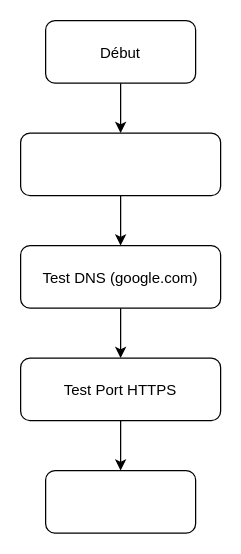
Some shapes in this 241 by 554 pixel diagram are drawn without their labels. The centre of each missing label's shape, as x and y in pixels:
"Fin" belongs at (120,501).
"Test Internet" belongs at (120,164).
